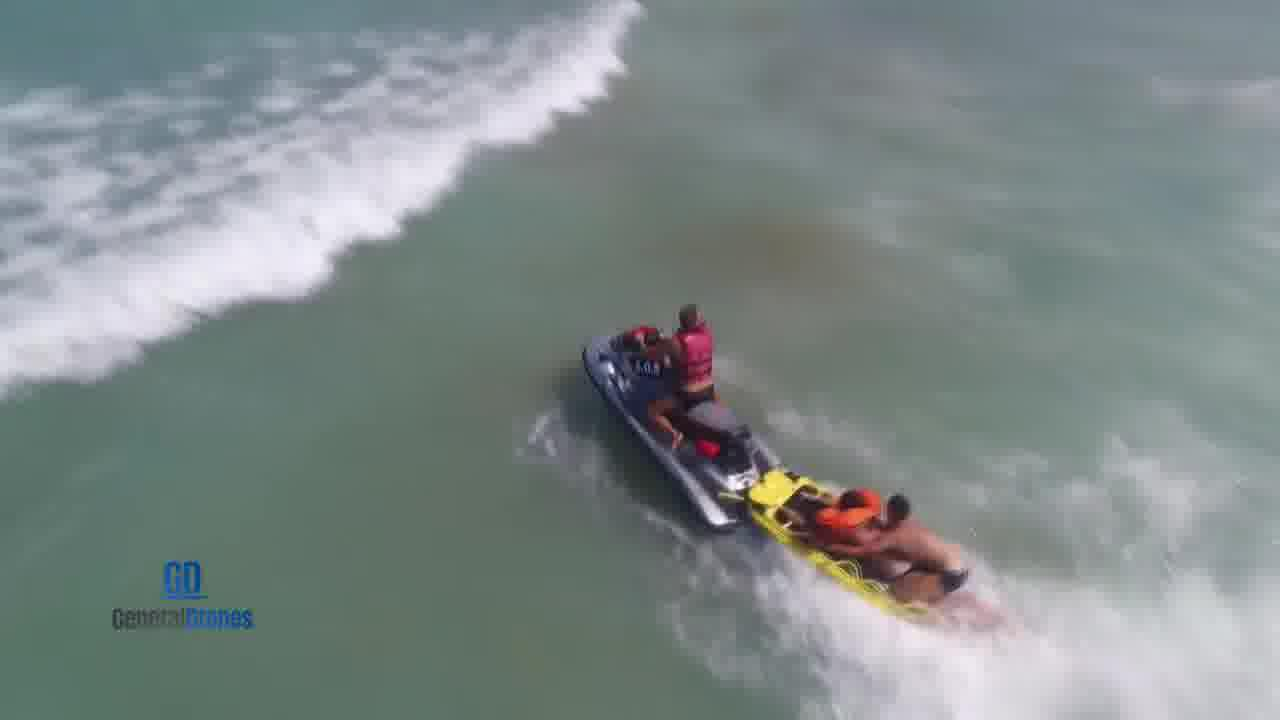swimmer: (877, 481, 977, 596)
